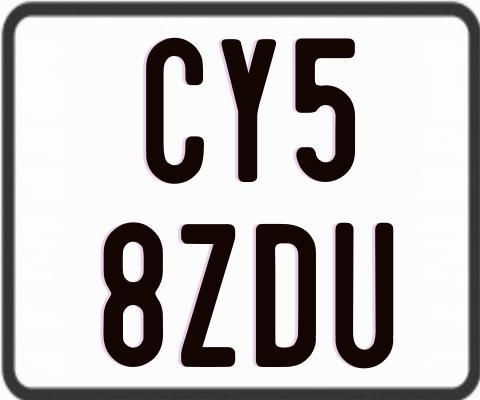5: (295, 35, 360, 183)
8: (102, 220, 166, 367)
C: (145, 37, 208, 189)
D: (253, 221, 316, 368)
U: (333, 223, 393, 368)
Y: (218, 37, 275, 186)
Z: (181, 221, 237, 368)
